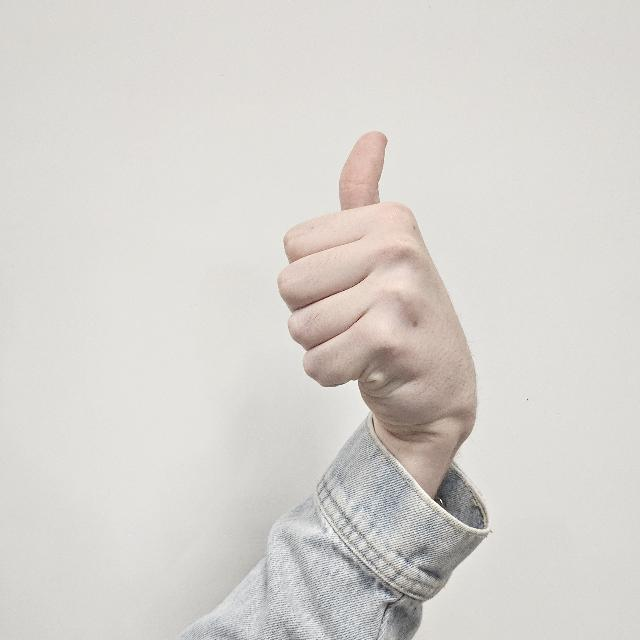Start: (278, 126, 440, 420)
